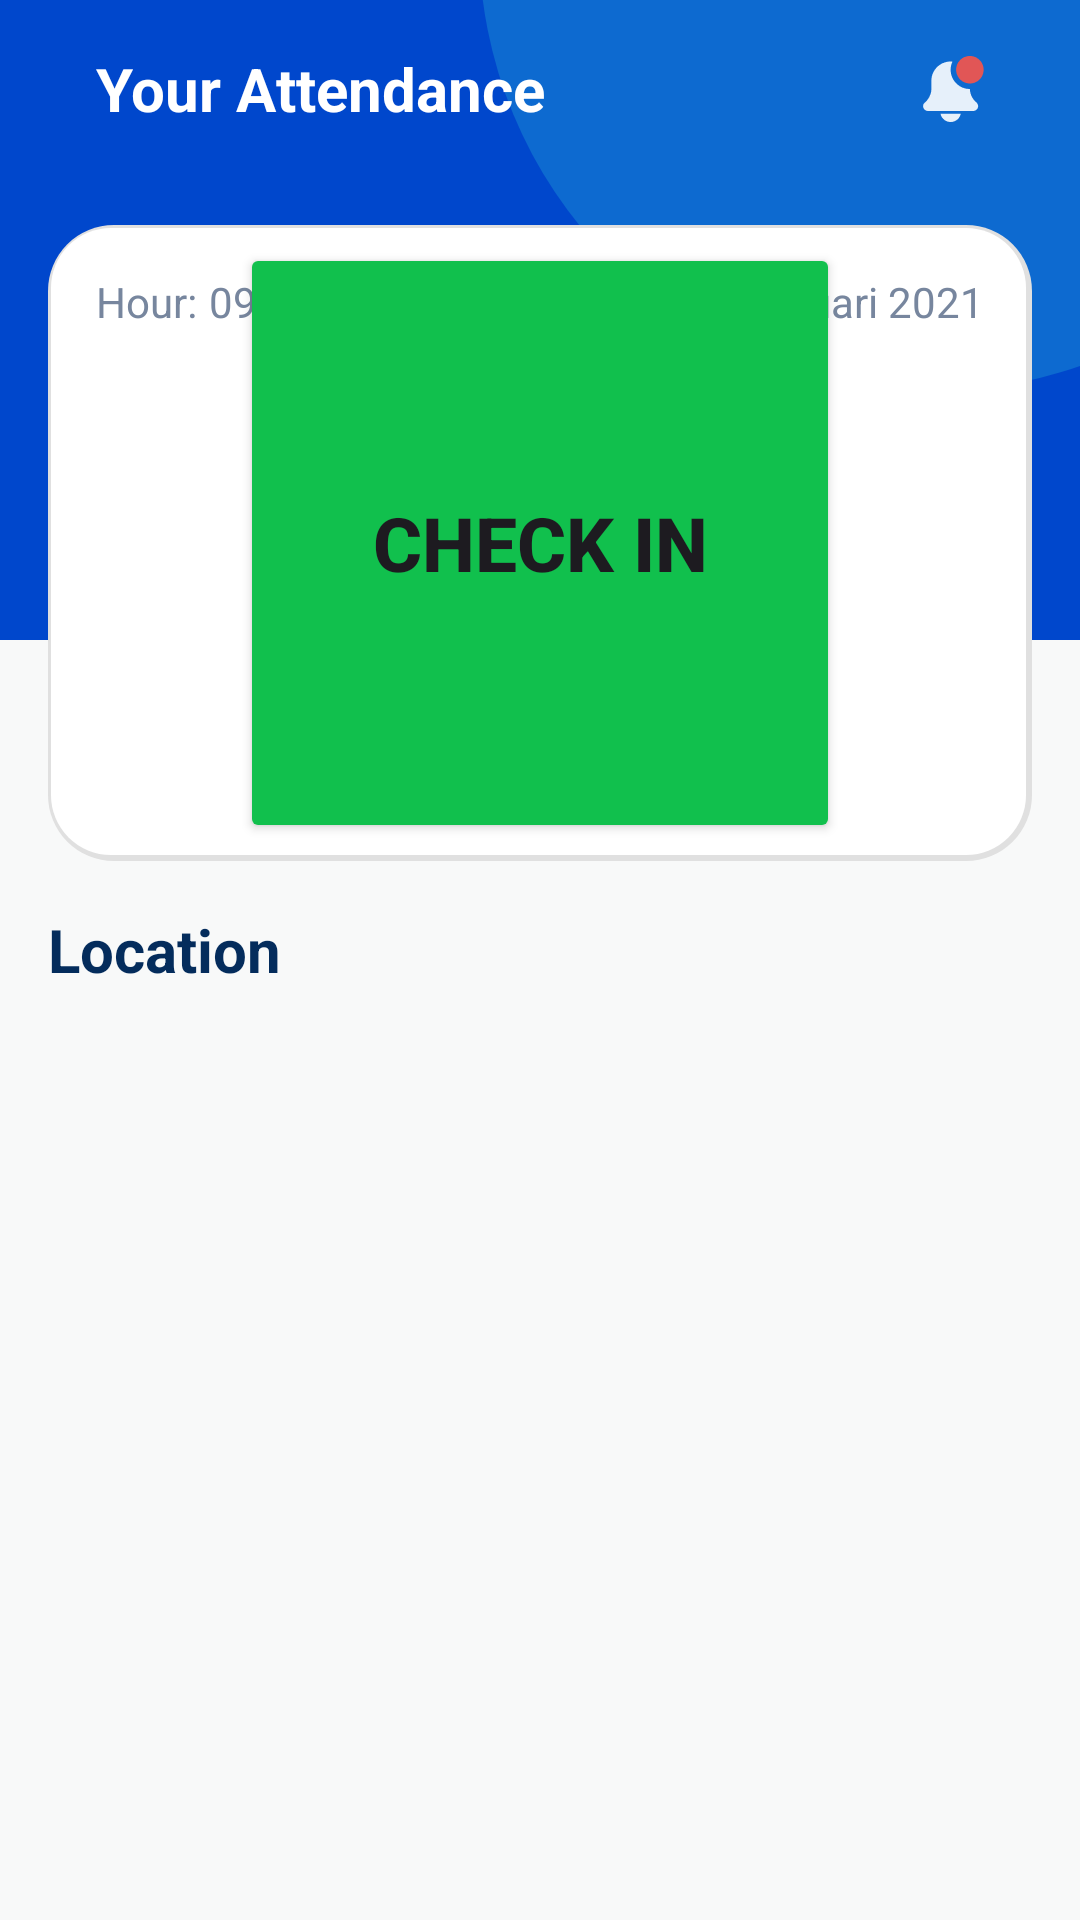

Icons on this 1080px x 1920px Android screen, each with its box as (x1, y1, x2, y2):
notification: (923, 56, 984, 122)
